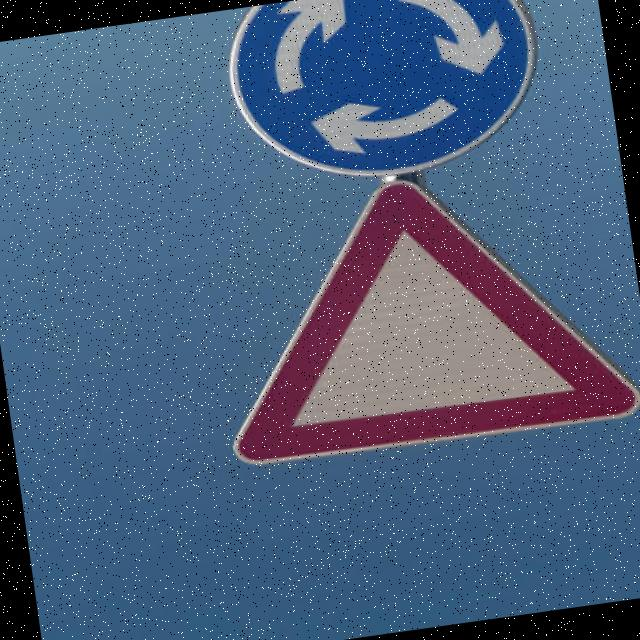round_about: (210, 0, 556, 205)
